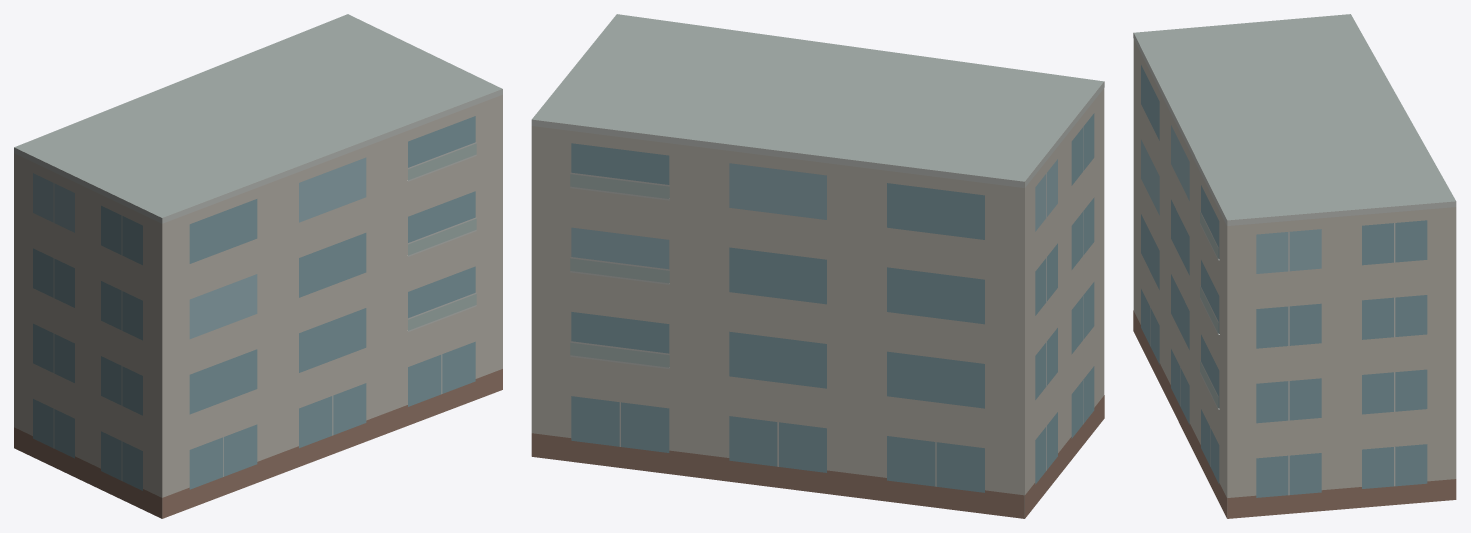
File: survey-upis-32608893.glb
The picture shows the model from 3 angles, left to right: view 1: azimuth 30°, elevation 25°; view 2: azimuth 150°, elevation 25°; view 3: azimuth 270°, elevation 25°; orthographic projection. The views are drawn at different scales.
Parts seen in each view (by area): view 1: survey-upis-32608893.tmp; view 2: survey-upis-32608893.tmp; view 3: survey-upis-32608893.tmp.
Boxes of the visible parts, x1,y1,x2,y2 form: survey-upis-32608893.tmp: (14,14,502,518); survey-upis-32608893.tmp: (531,14,1104,518); survey-upis-32608893.tmp: (1133,14,1456,518).
Bounding box in the file's own units: 19 × 12.8 × 12.56.
